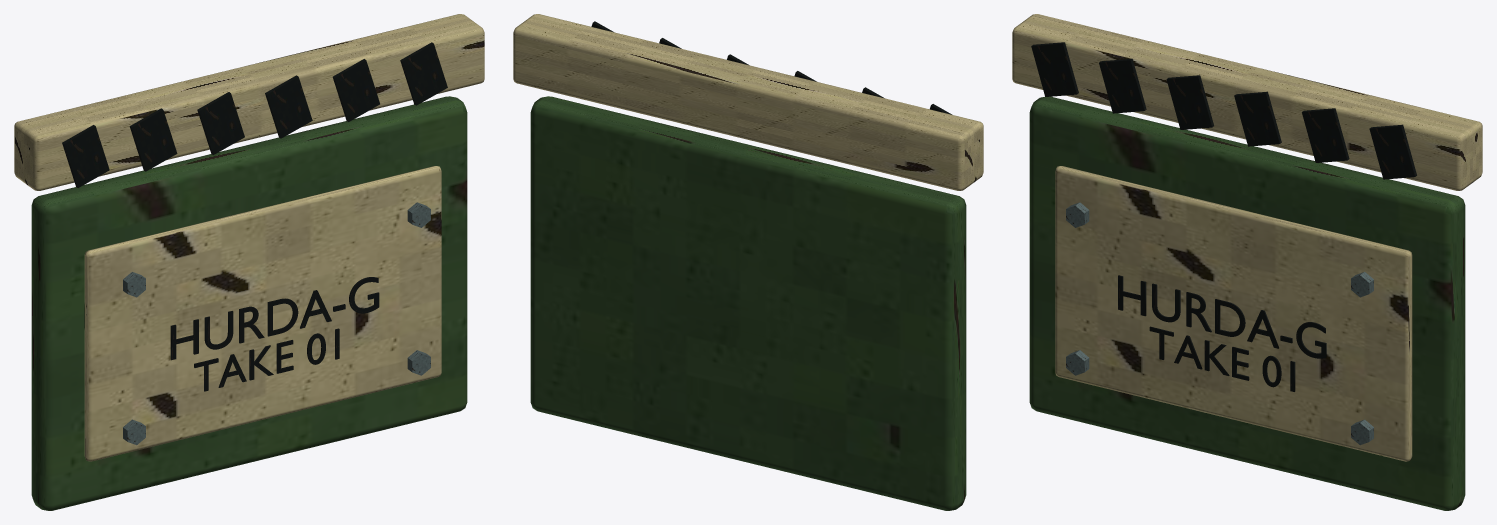
Rendered from eq-clapperboard.glb.
3 views of the same model, side by side, from view 1: azimuth 30°, elevation 25°; view 2: azimuth 150°, elevation 25°; view 3: azimuth 330°, elevation 25° (orthographic).
Parts seen in each view (by area): view 1: Cream inset.011, Board, Clap bar, Mark_HURDA-G, Mark_TAKE 01, Stripe.005, Stripe, Stripe.001, Stripe.002, Stripe.003, Stripe.004; view 2: Board, Clap bar; view 3: Cream inset.011, Board, Clap bar, Mark_HURDA-G, Mark_TAKE 01, Stripe.001, Stripe.002, Stripe, Stripe.004, Stripe.005, Stripe.003.
Boxes of the visible parts, left/top/right/bottom form: Cream inset.011: left=84, top=166, right=441, bottom=461; Board: left=31, top=96, right=467, bottom=510; Clap bar: left=14, top=14, right=484, bottom=190; Mark_HURDA-G: left=170, top=277, right=379, bottom=360; Mark_TAKE 01: left=194, top=328, right=339, bottom=391; Stripe.005: left=400, top=42, right=447, bottom=105; Stripe: left=62, top=125, right=109, bottom=187; Stripe.001: left=129, top=108, right=177, bottom=171; Stripe.002: left=197, top=92, right=244, bottom=154; Stripe.003: left=265, top=75, right=312, bottom=138; Stripe.004: left=332, top=59, right=379, bottom=121; Board: left=530, top=96, right=966, bottom=510; Clap bar: left=513, top=14, right=983, bottom=190; Cream inset.011: left=1055, top=166, right=1412, bottom=461; Board: left=1029, top=96, right=1465, bottom=510; Clap bar: left=1012, top=14, right=1482, bottom=190; Mark_HURDA-G: left=1118, top=275, right=1326, bottom=358; Mark_TAKE 01: left=1149, top=326, right=1295, bottom=391; Stripe.001: left=1099, top=58, right=1146, bottom=113; Stripe.002: left=1166, top=75, right=1213, bottom=129; Stripe: left=1031, top=42, right=1078, bottom=96; Stripe.004: left=1302, top=108, right=1349, bottom=162; Stripe.005: left=1369, top=124, right=1416, bottom=179; Stripe.003: left=1234, top=91, right=1281, bottom=146.
Bounding box in the file's own units: 0.38 × 0.3102 × 0.061.
4 materials, 4 textured.
